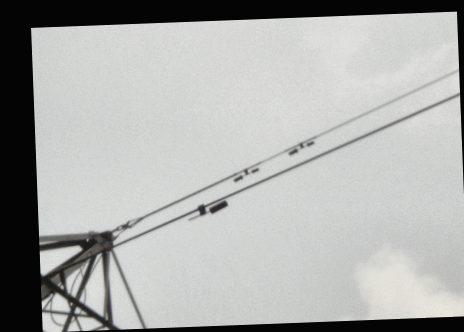damper: (232, 165, 260, 183), (286, 139, 315, 156)
damper_defect: (186, 199, 229, 223)
